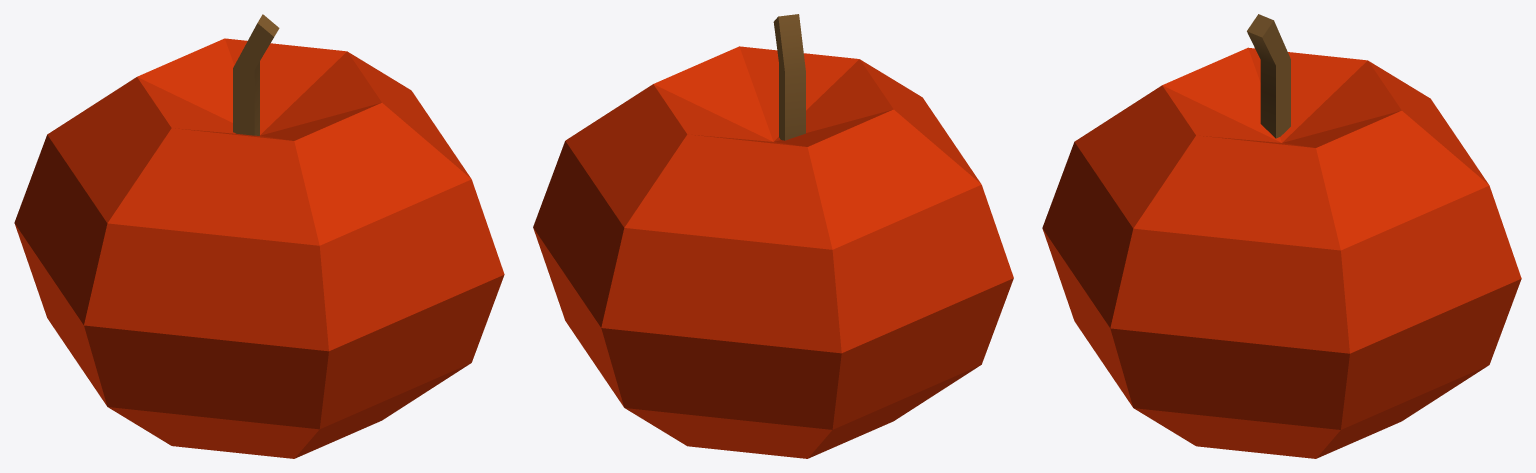
File: food_apple.fbx
3 renders of one model, left to right at view 1: azimuth 30°, elevation 25°; view 2: azimuth 150°, elevation 25°; view 3: azimuth 270°, elevation 25°, orthographic. The views are drawn at different scales.
Parts seen in each view (by area): view 1: polySurface127; view 2: polySurface127; view 3: polySurface127.
Part boxes in pixels (x1,y1,x2,y2): polySurface127: (14, 14, 504, 458); polySurface127: (533, 14, 1013, 458); polySurface127: (1042, 14, 1521, 458).
Bounding box in the file's own units: 52.03 × 46.91 × 52.51.
Materials: 1 (1 with a texture image).
